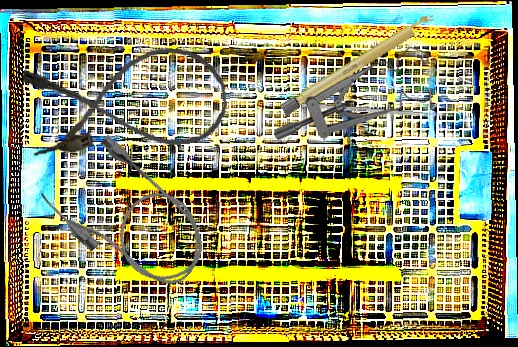Cannula: (34, 127, 224, 310), (21, 42, 231, 161)
Pusher: (302, 102, 452, 119)
Scalpel Handle: (279, 11, 438, 117)
Speculum: (275, 47, 433, 140)
